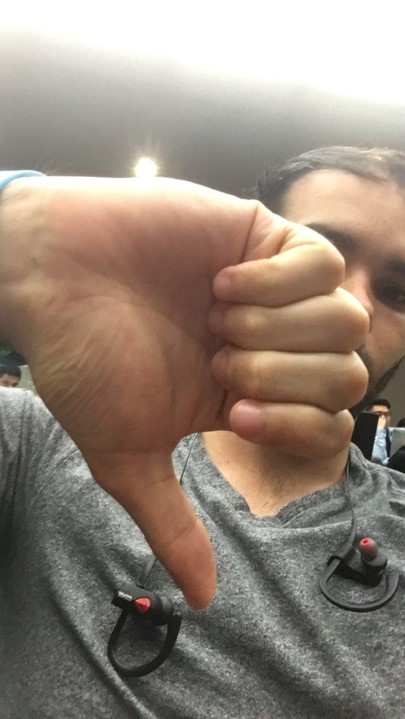hand: (25, 174, 371, 613)
